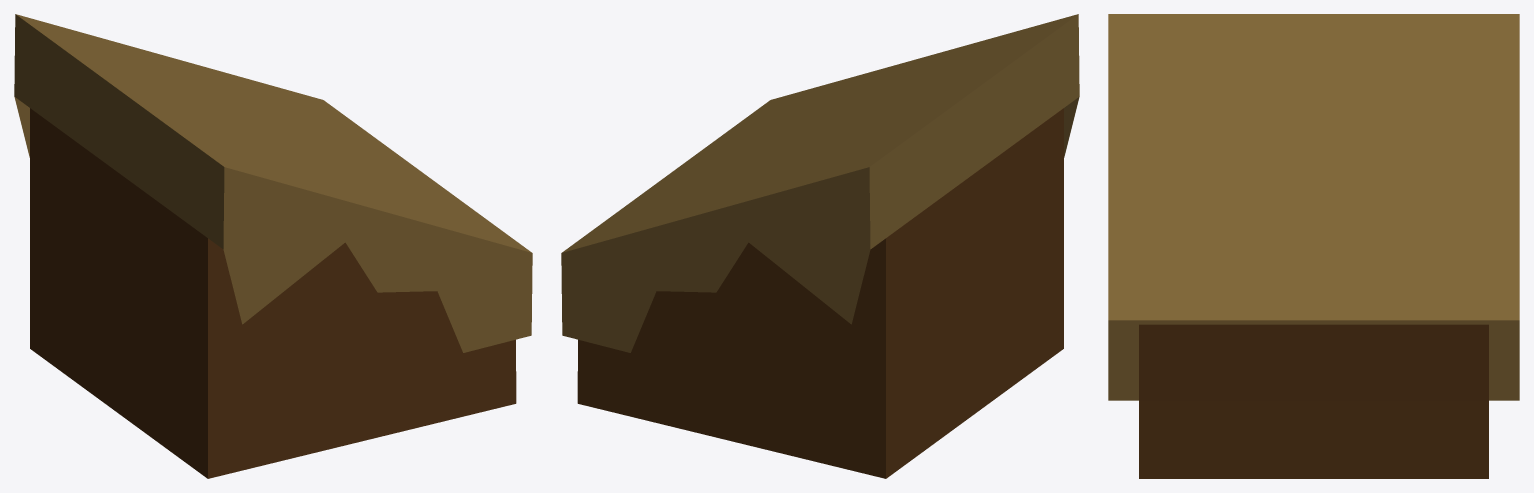
File: Grass_Slope_sm.001.glb
The picture shows the model from 3 angles, left to right: view 1: azimuth 30°, elevation 25°; view 2: azimuth 150°, elevation 25°; view 3: azimuth 270°, elevation 25°; orthographic projection.
Visible parts, largest first — view 1: Grass_Slope_sm.001; view 2: Grass_Slope_sm.001; view 3: Grass_Slope_sm.001.
Part boxes in pixels (x1,y1,x2,y2): Grass_Slope_sm.001: (14,14,532,478); Grass_Slope_sm.001: (561,14,1079,478); Grass_Slope_sm.001: (1108,14,1519,478).
Size of the model in its own units: 2.01 by 2 by 2.35.
1 material, 1 textured.
